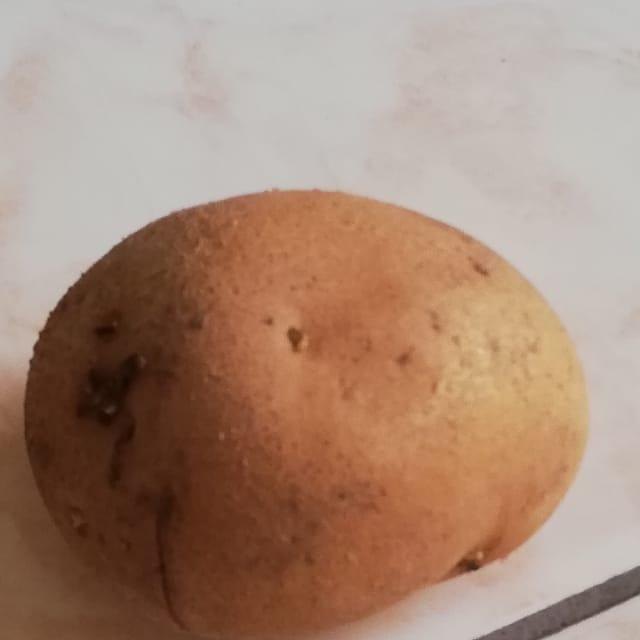potato: (0, 149, 612, 640)
